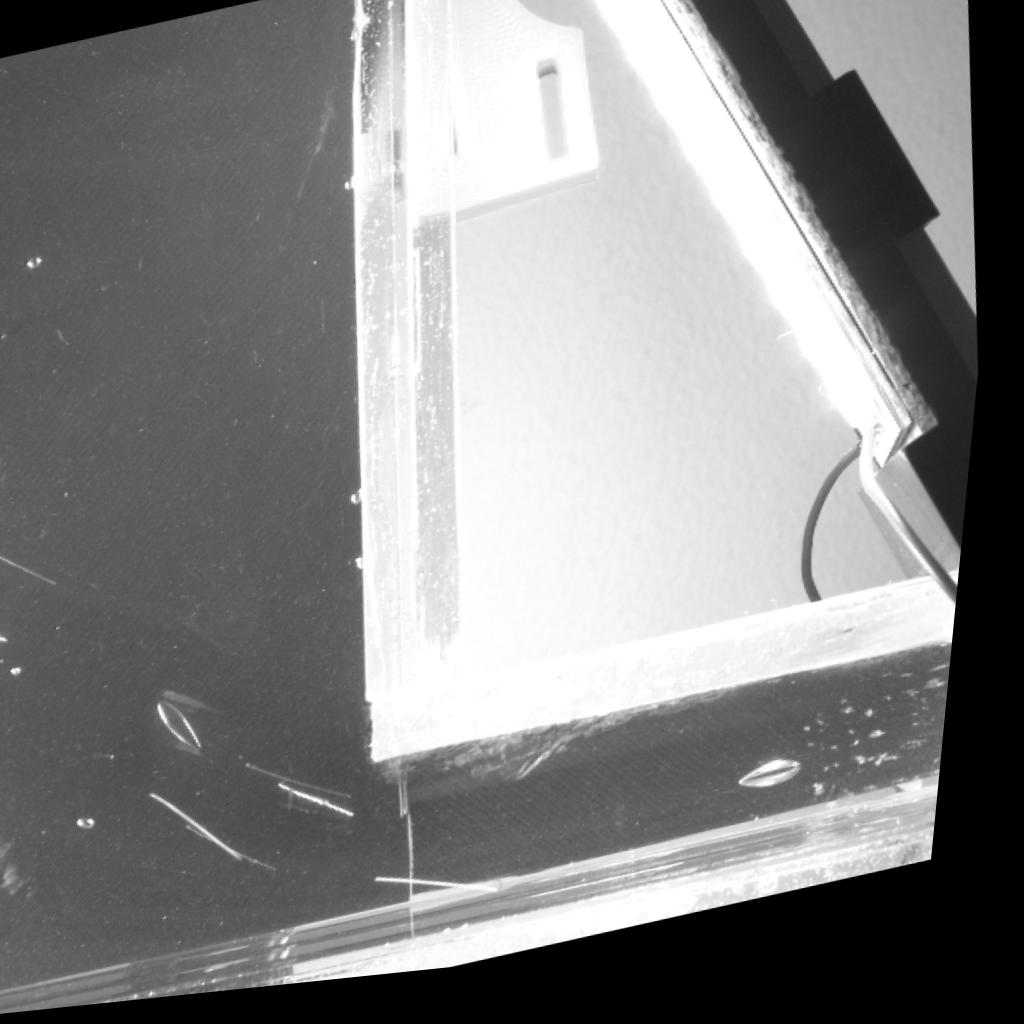Fiber: (161, 791, 266, 870), (255, 764, 375, 814), (289, 788, 379, 830), (0, 542, 76, 589), (395, 884, 523, 908)
